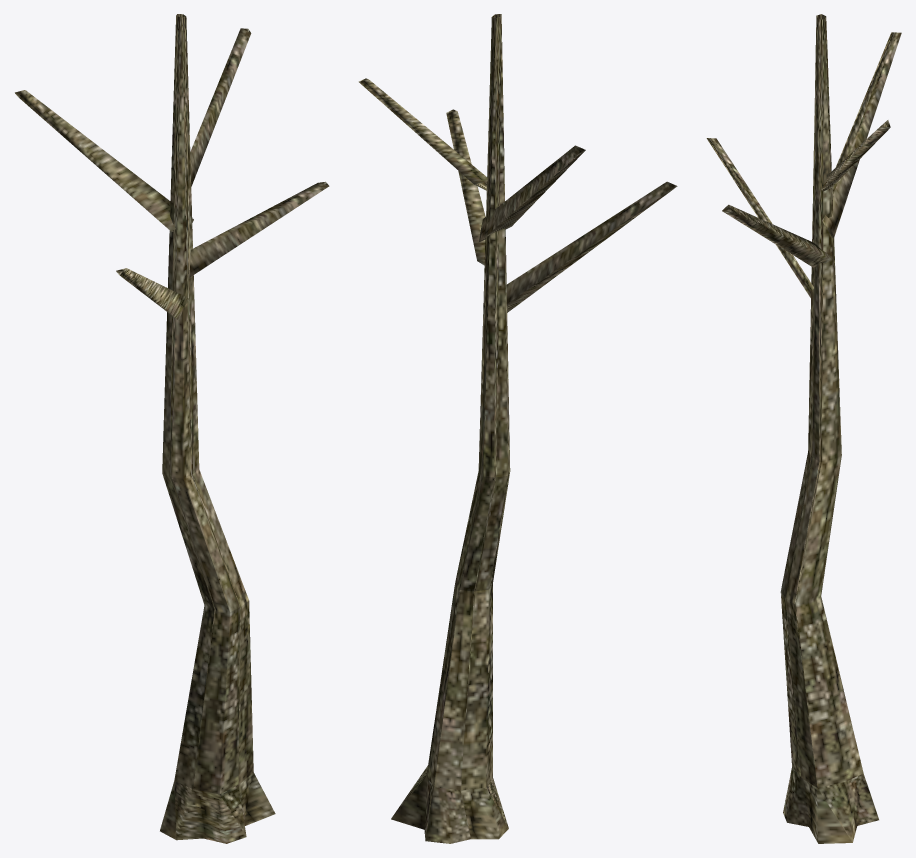
Rendered from tree_tropic_b.dae.
3 views of the same model, side by side, from view 1: azimuth 30°, elevation 25°; view 2: azimuth 150°, elevation 25°; view 3: azimuth 270°, elevation 25° (orthographic). The views are drawn at different scales.
Parts seen in each view (by area): view 1: tree_oak_a; view 2: tree_oak_a; view 3: tree_oak_a.
Part boxes in pixels (x1,y1,x2,y2): tree_oak_a: [15, 14, 329, 843]; tree_oak_a: [358, 14, 677, 843]; tree_oak_a: [706, 14, 901, 843].
Bounding box in the file's own units: 5.12 × 3.94 × 17.45.
